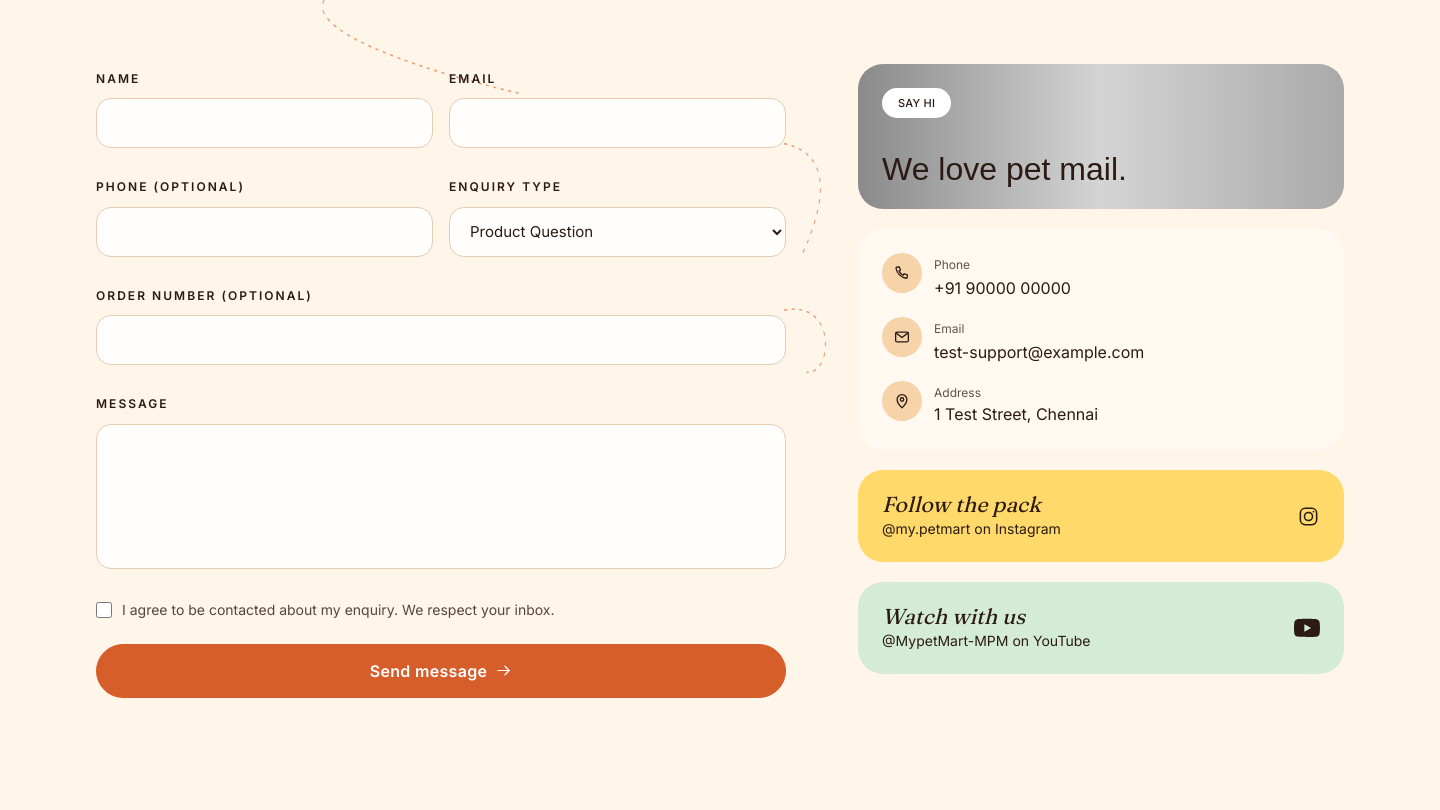
Scenario: ContactFormSection › requires consent before submitting
The width and height of the screenshot is (1440, 810).
Type "Priya Sharma" into the field labelled "Name" at (264, 123), box [96,98,433,148]
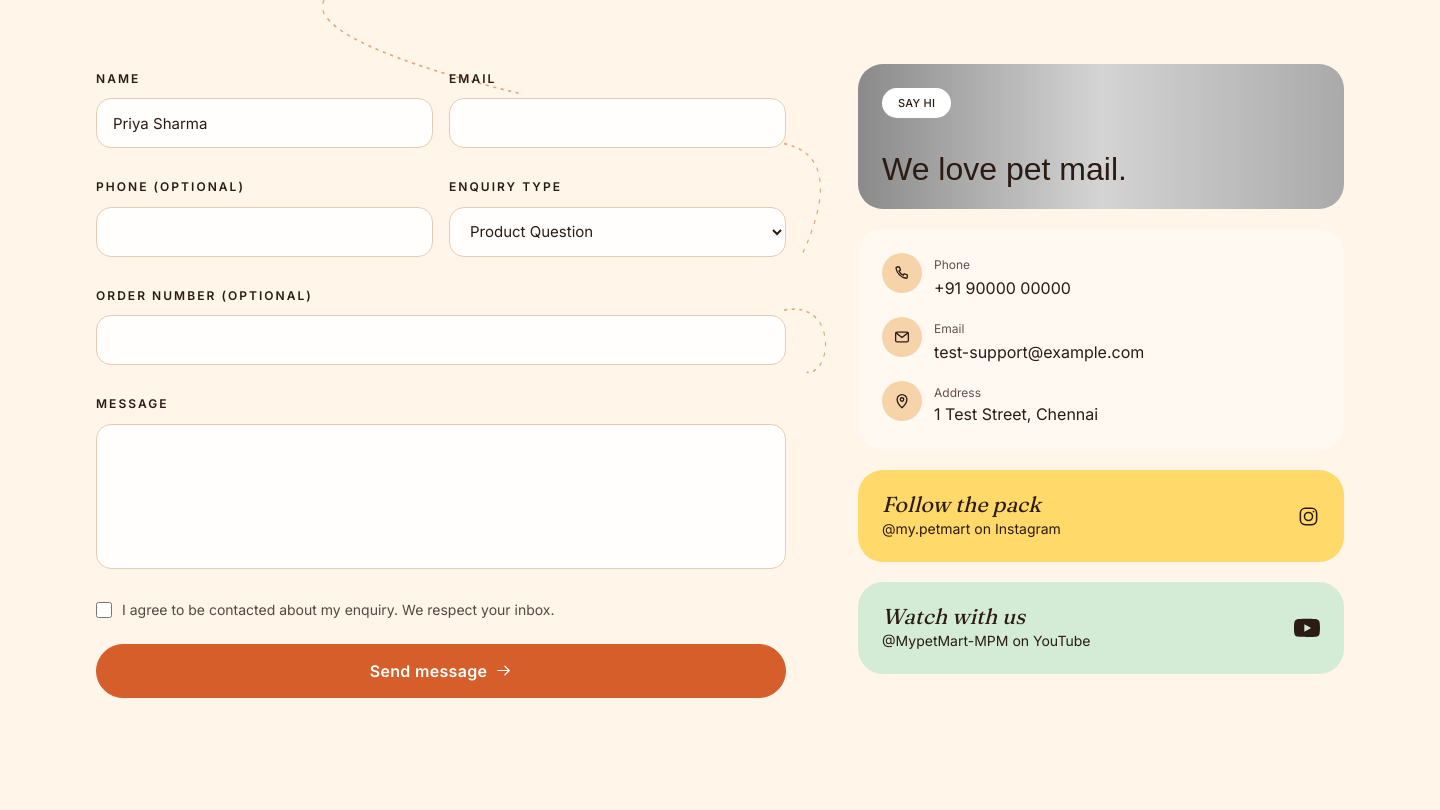
Type "priya@example.com" into the field labelled "Email" at (618, 123), box [449,98,786,148]
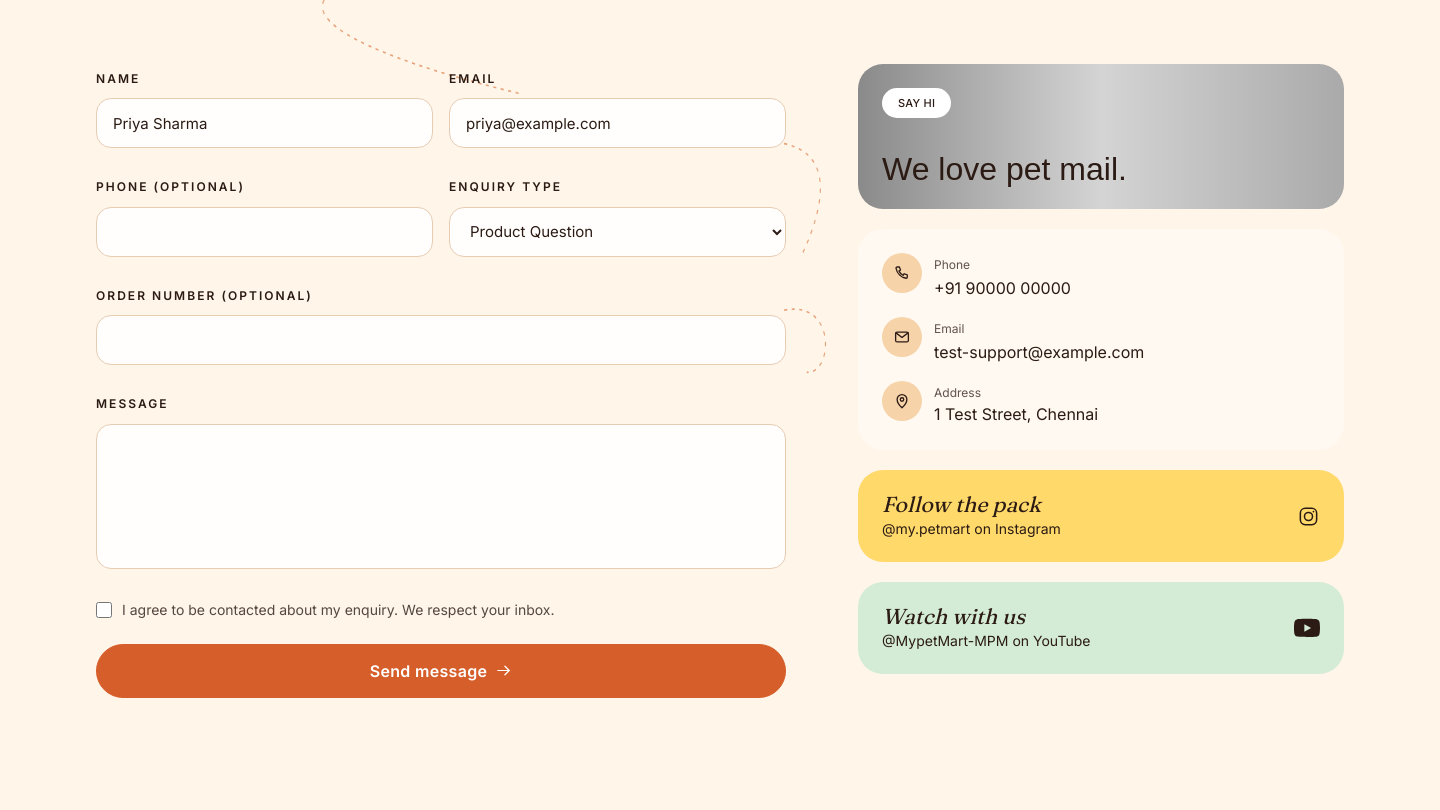
Type "Question about a product." into the text box labelled "Message" at (441, 496), box [96,424,786,569]
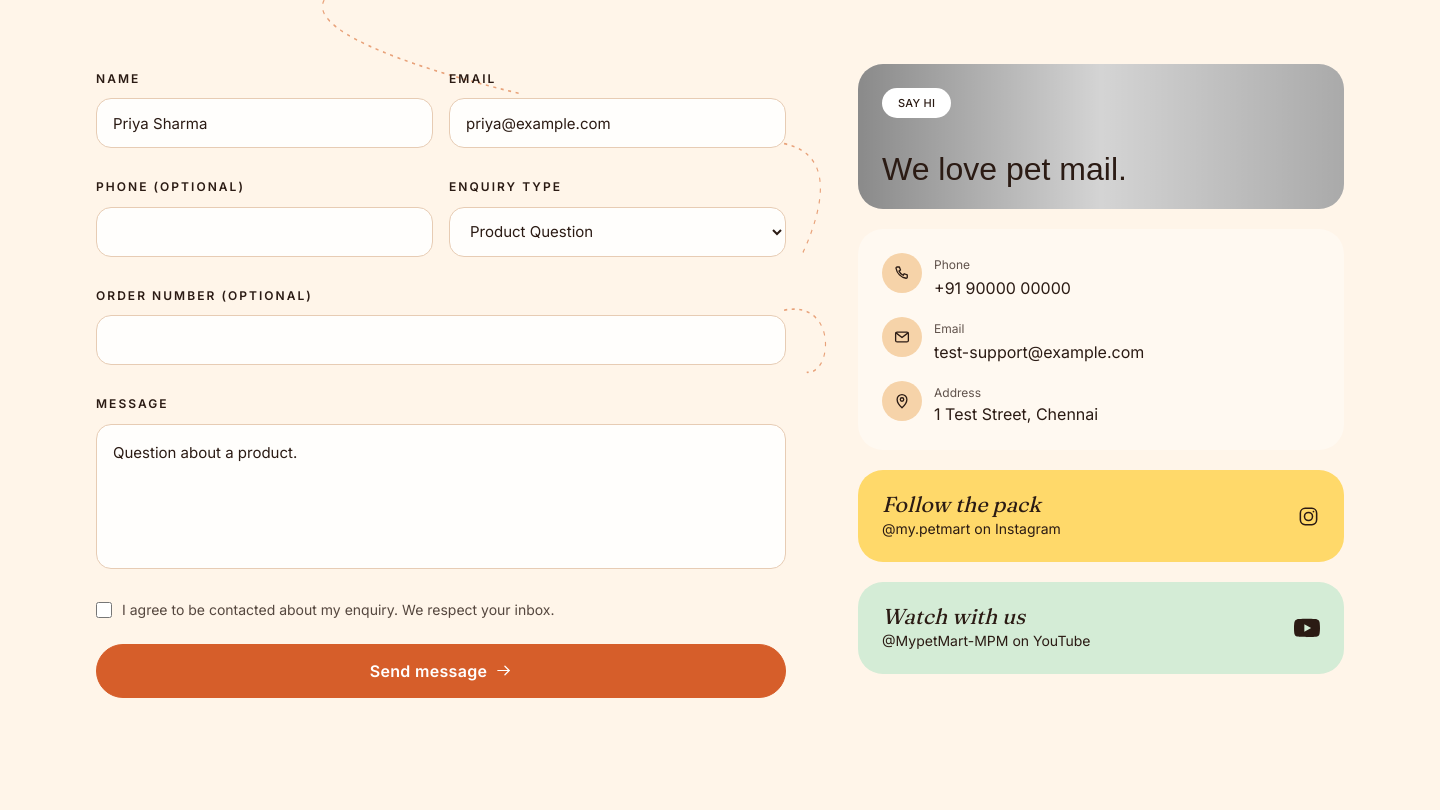
Click the button "Send message" at (441, 671), box [96,644,786,698]
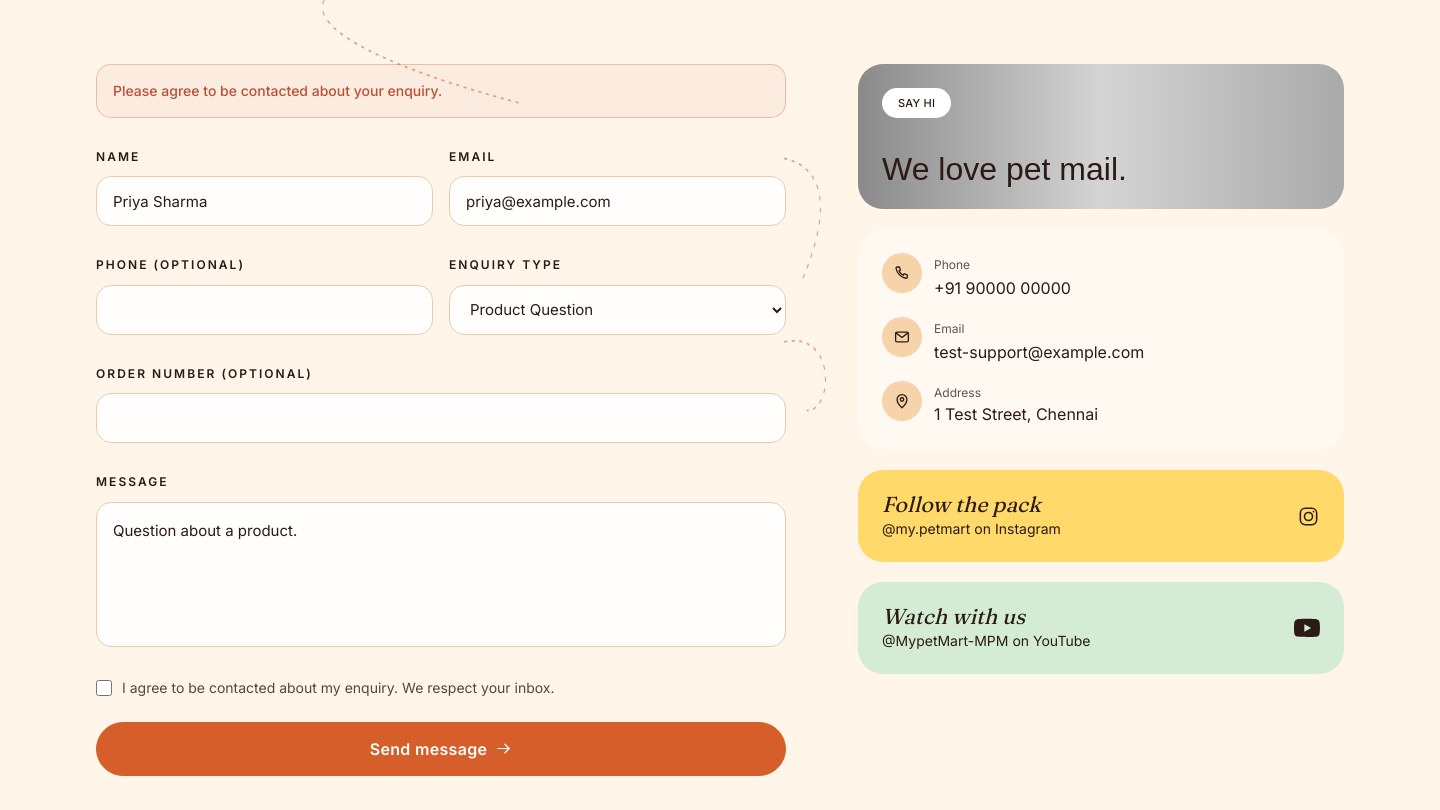
Now the message shows "agree to be contacted", box [113,82,442,99]
